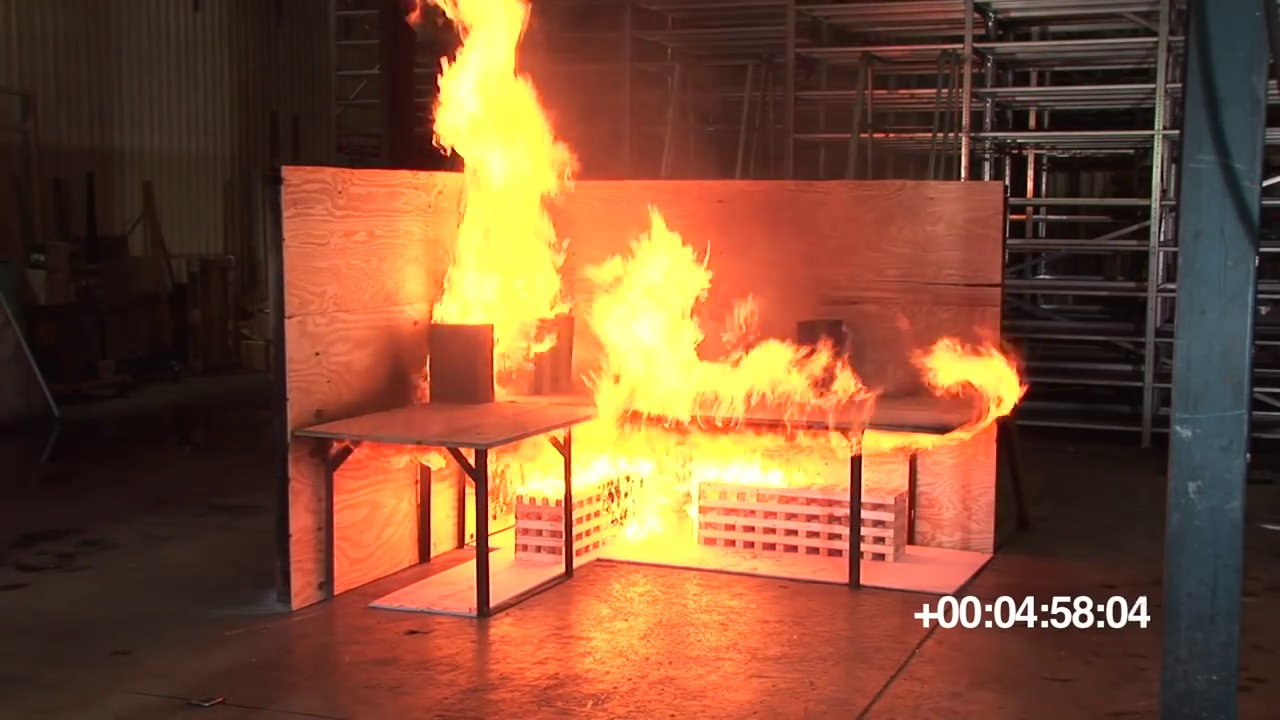fire: (421, 2, 567, 378), (585, 224, 860, 418), (516, 433, 835, 487), (917, 333, 1027, 420)
